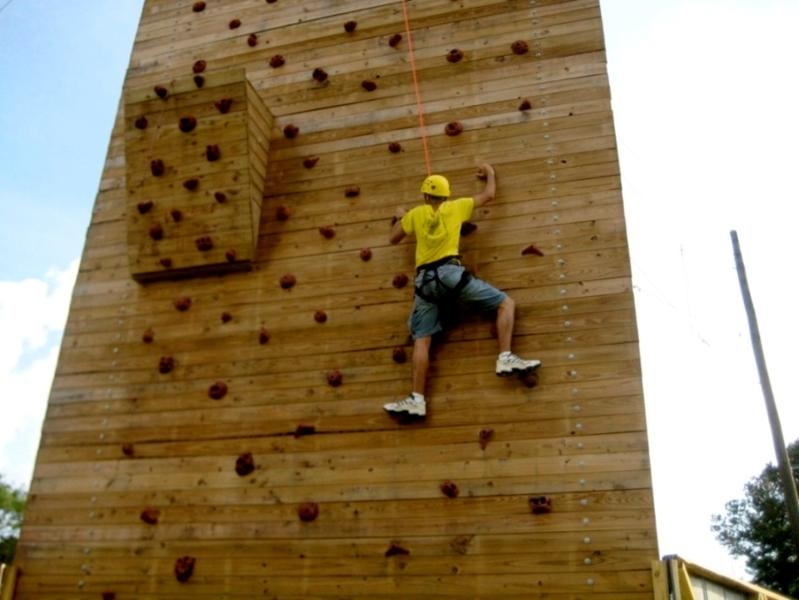person: (386, 162, 537, 421)
